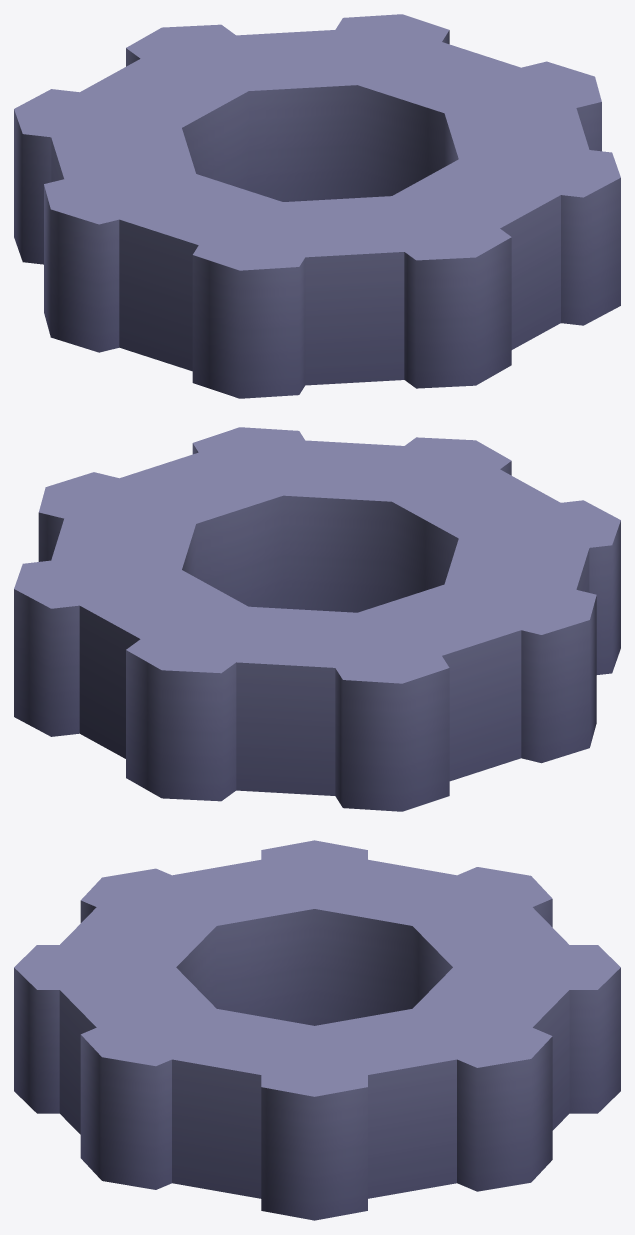
Rendered from cog-b.glb.
The picture shows the model from 3 angles, top to bottom: view 1: azimuth 30°, elevation 25°; view 2: azimuth 150°, elevation 25°; view 3: azimuth 270°, elevation 25°; orthographic projection. The views are drawn at different scales.
Parts seen in each view (by area): view 1: cog-b; view 2: cog-b; view 3: cog-b.
Part boxes in pixels (box(x1,y1,x2,y2)): cog-b: box(14, 14, 620, 398); cog-b: box(14, 427, 620, 811); cog-b: box(14, 840, 620, 1220).
Size of the model in its own units: 1 by 0.225 by 1.
1 material, 1 textured.
